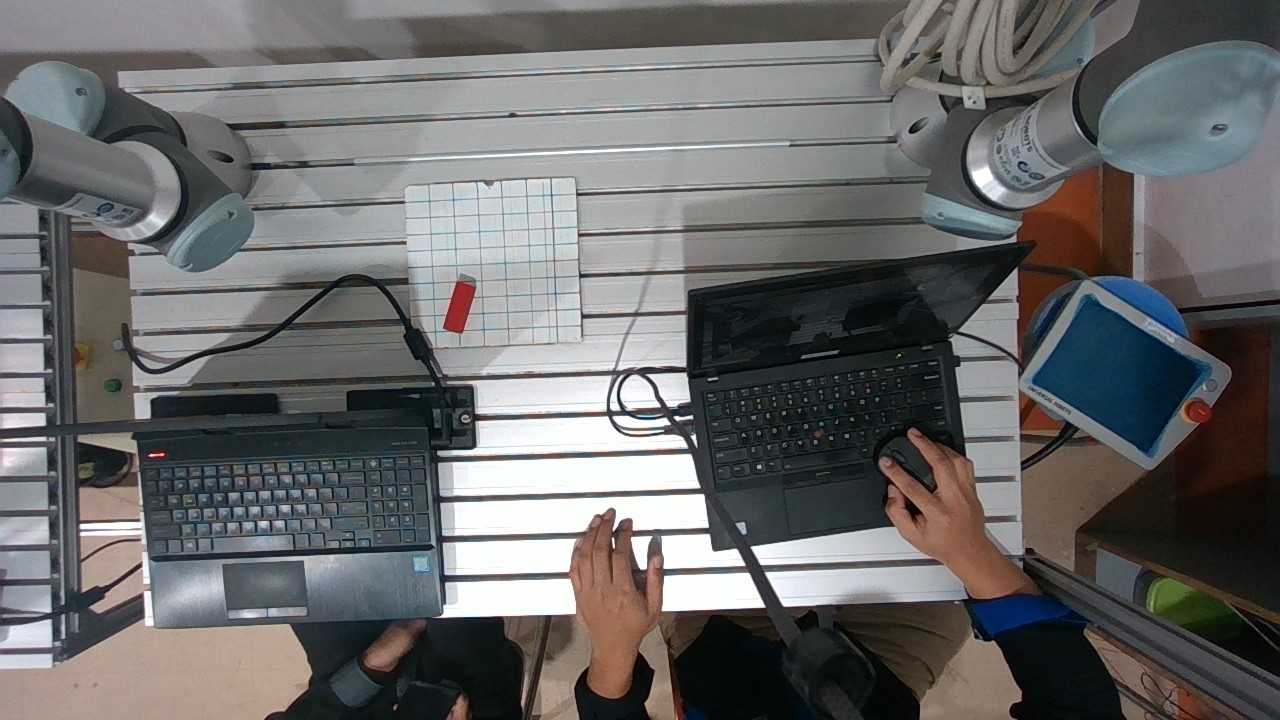box: (436, 272, 487, 339)
